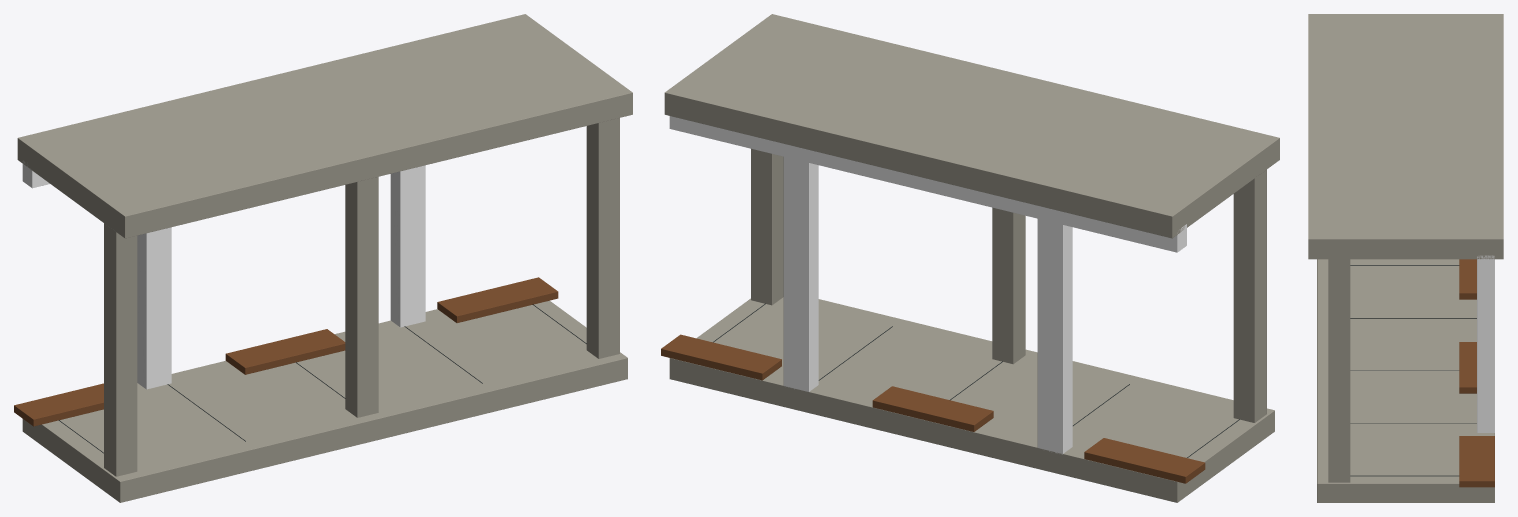
File: five-foot-way.glb
3 views of the same model, side by side, from view 1: azimuth 30°, elevation 25°; view 2: azimuth 150°, elevation 25°; view 3: azimuth 270°, elevation 25° (orthographic). The views are drawn at different scales.
Parts seen in each view (by area): view 1: Covered_Arcade_Slab, Linked_Arcade_Floor, Arcade_Column.001, Arcade_Column.002, Arcade_Column, Party_Wall_Pier.001, Party_Wall_Pier, Shop_Threshold.002, Shop_Threshold.001, Shop_Threshold; view 2: Covered_Arcade_Slab, Linked_Arcade_Floor, Party_Wall_Pier, Party_Wall_Pier.001, Arcade_Column.001, Rear_Header, Arcade_Column.002, Arcade_Column, Shop_Threshold, Shop_Threshold.001, Shop_Threshold.002; view 3: Covered_Arcade_Slab, Linked_Arcade_Floor, Arcade_Column, Party_Wall_Pier.001, Shop_Threshold.002, Shop_Threshold.001, Shop_Threshold, Rear_Header.
Boxes of the visible parts, bbox=[...] form: Covered_Arcade_Slab: bbox=[17, 14, 632, 238]; Linked_Arcade_Floor: bbox=[22, 300, 627, 502]; Arcade_Column.001: bbox=[104, 223, 137, 476]; Arcade_Column.002: bbox=[345, 177, 378, 417]; Arcade_Column: bbox=[586, 118, 619, 358]; Party_Wall_Pier.001: bbox=[390, 165, 425, 327]; Party_Wall_Pier: bbox=[137, 227, 171, 389]; Shop_Threshold.002: bbox=[437, 277, 558, 322]; Shop_Threshold.001: bbox=[225, 329, 345, 374]; Shop_Threshold: bbox=[14, 383, 103, 426]; Covered_Arcade_Slab: bbox=[664, 14, 1279, 238]; Linked_Arcade_Floor: bbox=[669, 297, 1274, 502]; Party_Wall_Pier: bbox=[1037, 206, 1072, 454]; Party_Wall_Pier.001: bbox=[783, 144, 818, 391]; Arcade_Column.001: bbox=[1233, 169, 1266, 422]; Rear_Header: bbox=[669, 116, 1186, 252]; Arcade_Column.002: bbox=[992, 207, 1025, 364]; Arcade_Column: bbox=[751, 148, 783, 305]; Shop_Threshold: bbox=[1084, 438, 1205, 483]; Shop_Threshold.001: bbox=[872, 386, 993, 431]; Shop_Threshold.002: bbox=[661, 334, 781, 380]; Covered_Arcade_Slab: bbox=[1308, 14, 1503, 259]; Linked_Arcade_Floor: bbox=[1317, 259, 1494, 502]; Arcade_Column: bbox=[1328, 259, 1350, 482]; Party_Wall_Pier.001: bbox=[1477, 275, 1494, 432]; Shop_Threshold.002: bbox=[1459, 436, 1494, 487]; Shop_Threshold.001: bbox=[1459, 342, 1476, 393]; Shop_Threshold: bbox=[1459, 259, 1476, 299]; Rear_Header: bbox=[1477, 255, 1494, 275].
Bounding box in the file's own units: 6.2 × 3.28 × 2.2.
